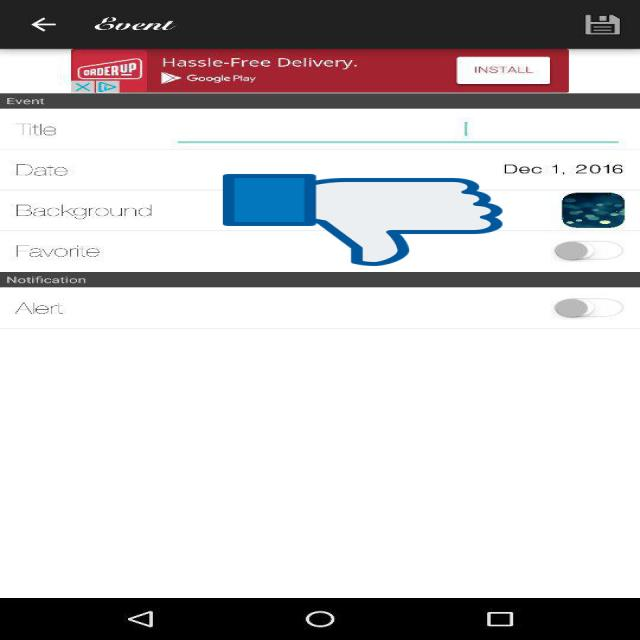obstruction: (223, 172, 502, 268)
